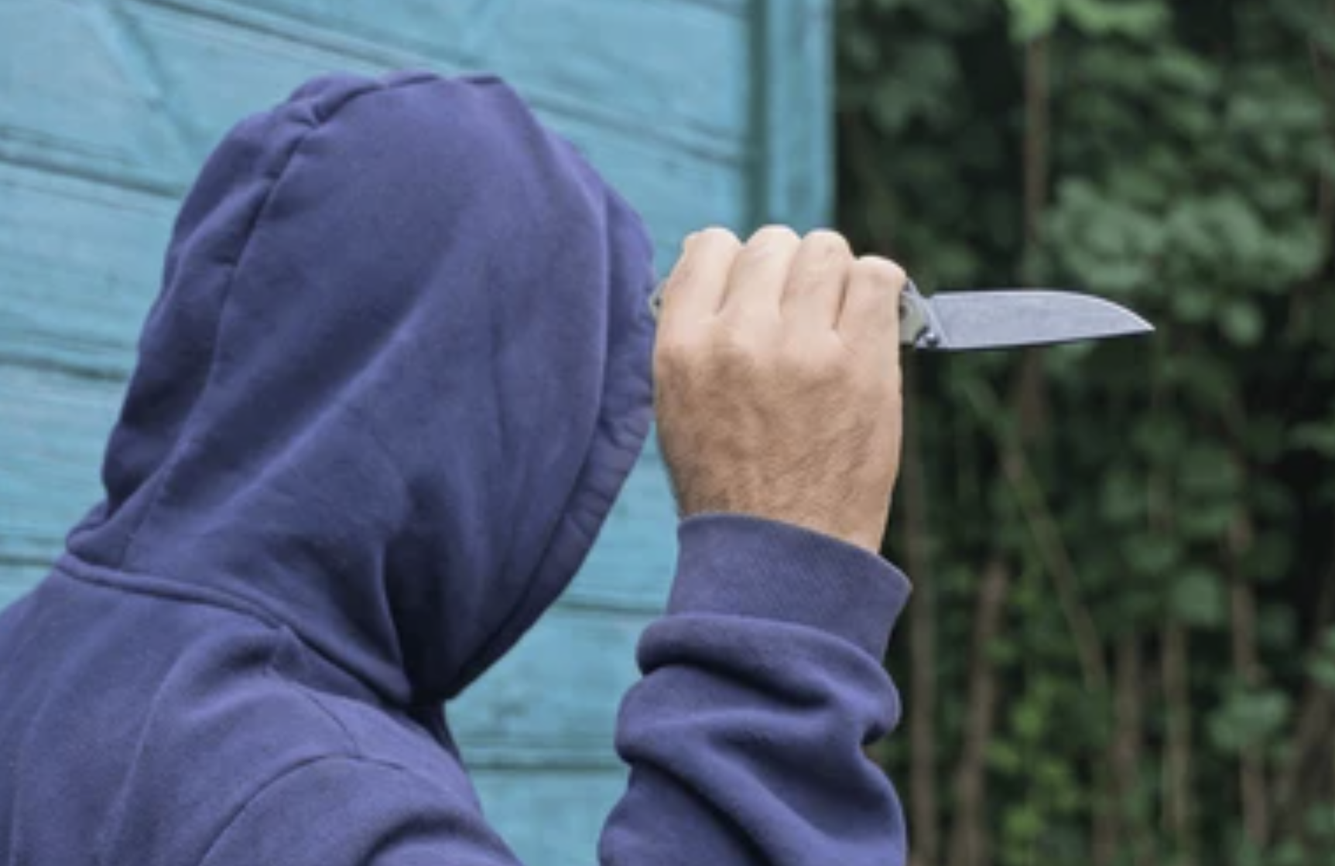knife_58.png: (874, 240, 1172, 367)
